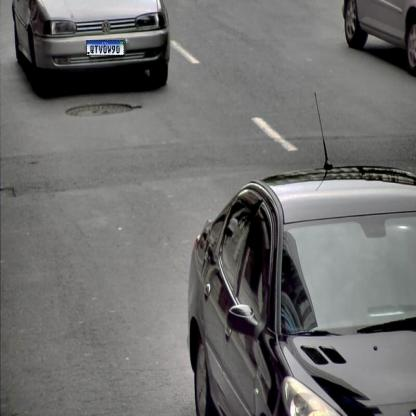PlacaM: (86, 40, 124, 56)
